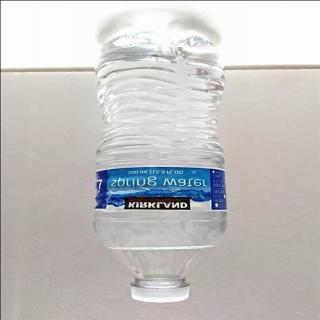Anorganik: (84, 17, 254, 309)
